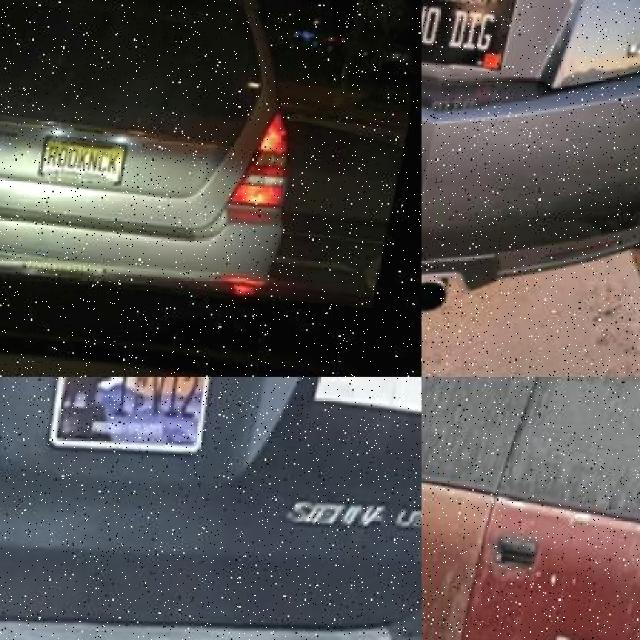licenseplate: (49, 377, 214, 457), (422, 0, 520, 78), (40, 136, 131, 190)
